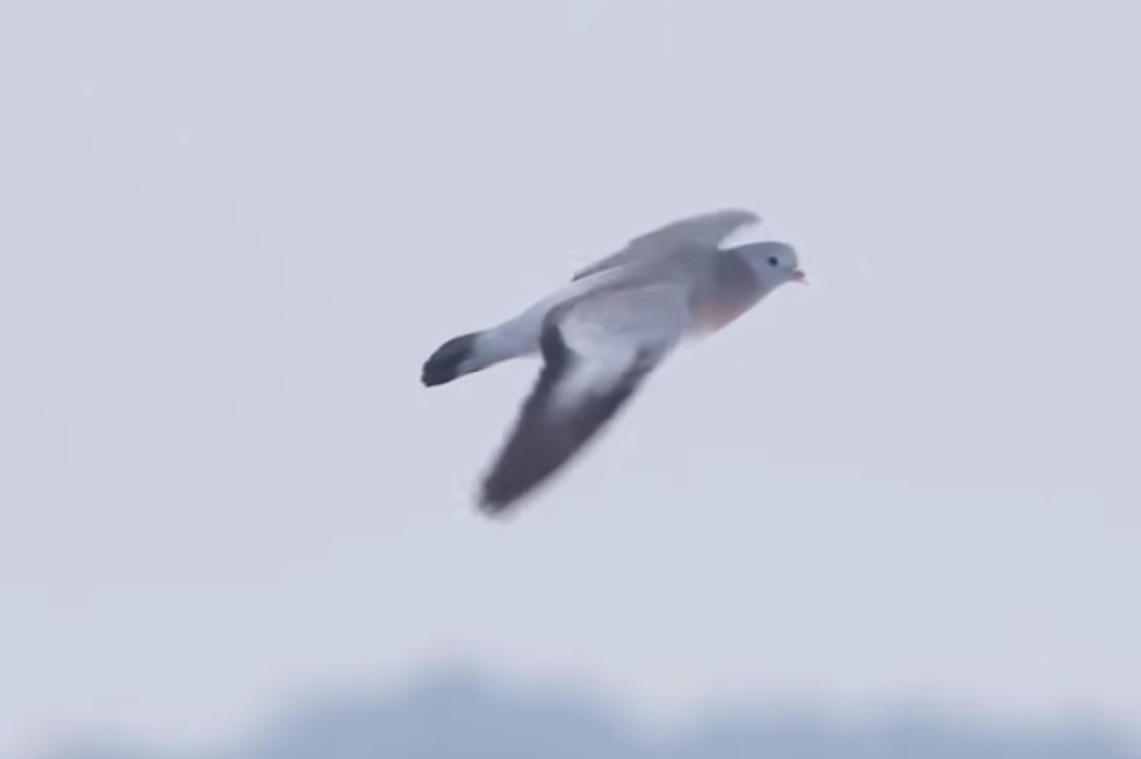bird: (405, 202, 817, 516)
